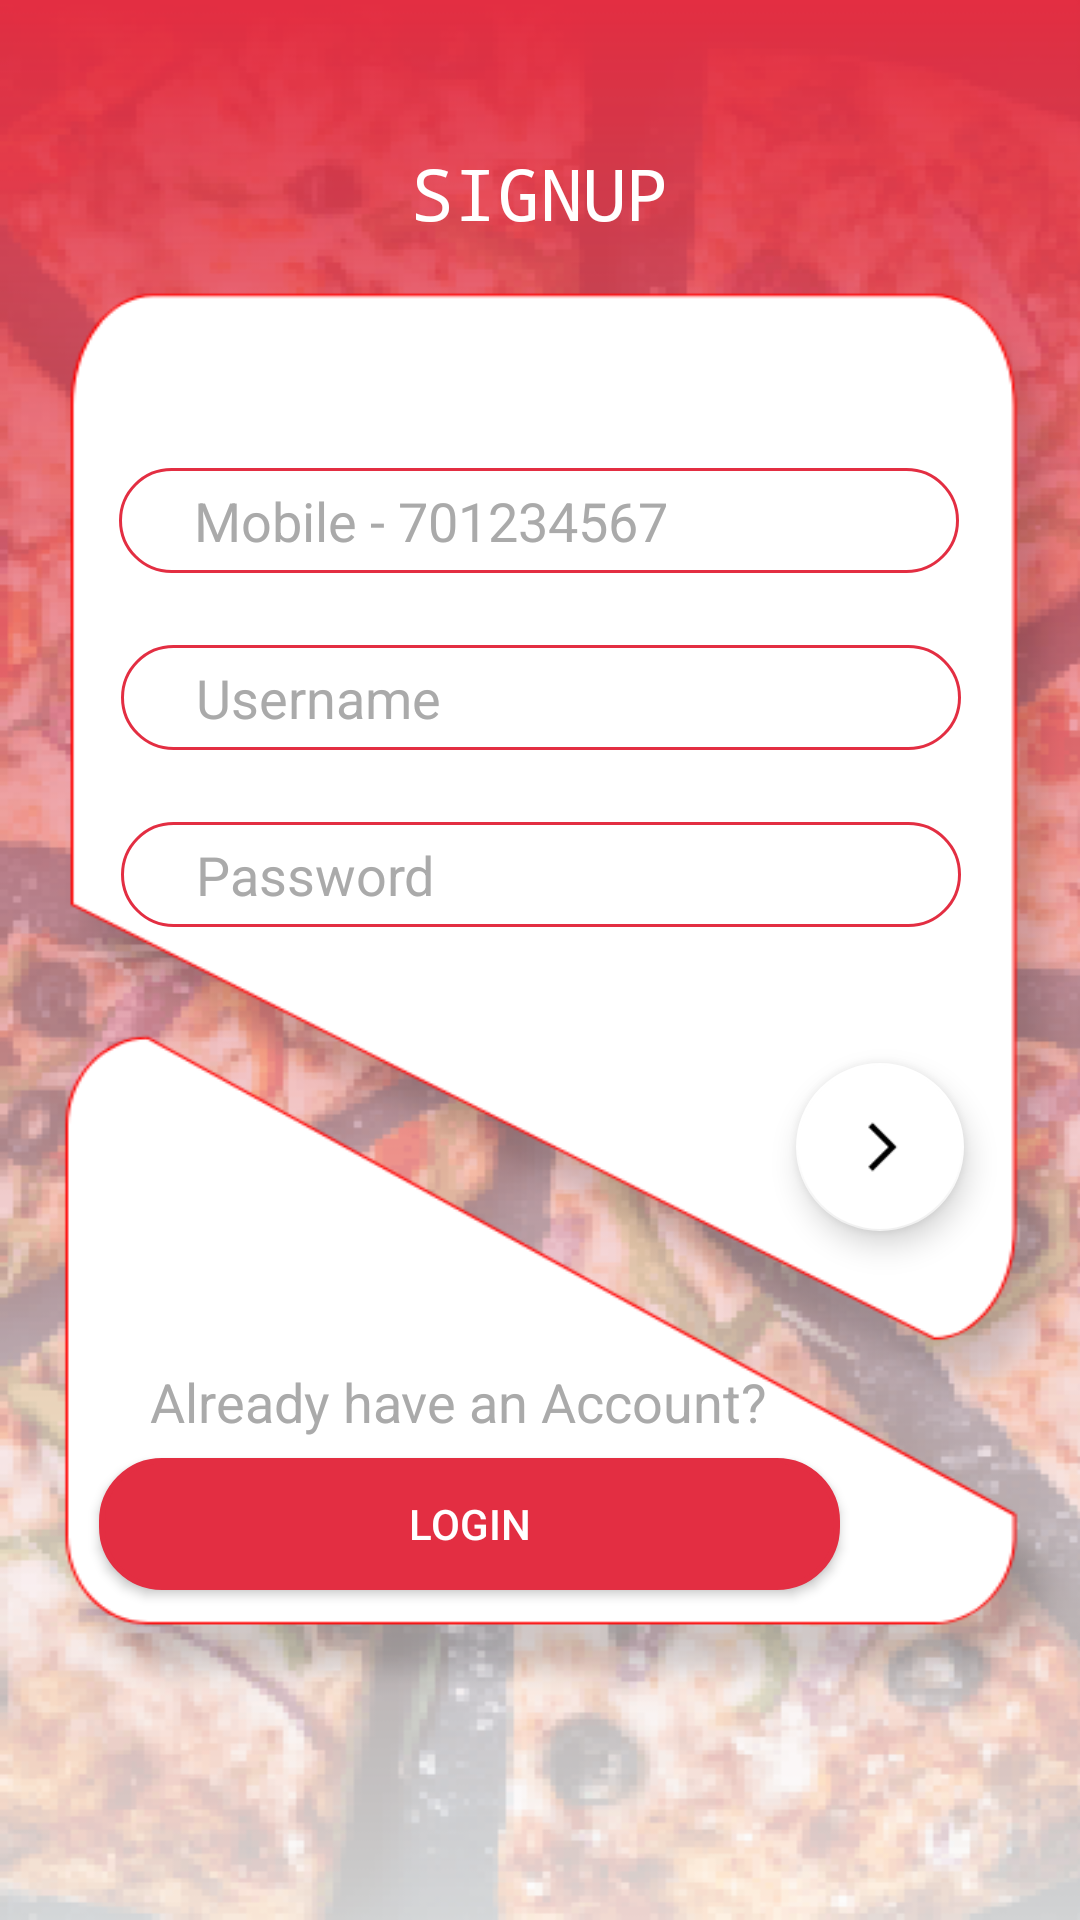

Icons on this 1080 × 1920 Android screen, each with the point to tap as (x,y):
next: (884,1176)
